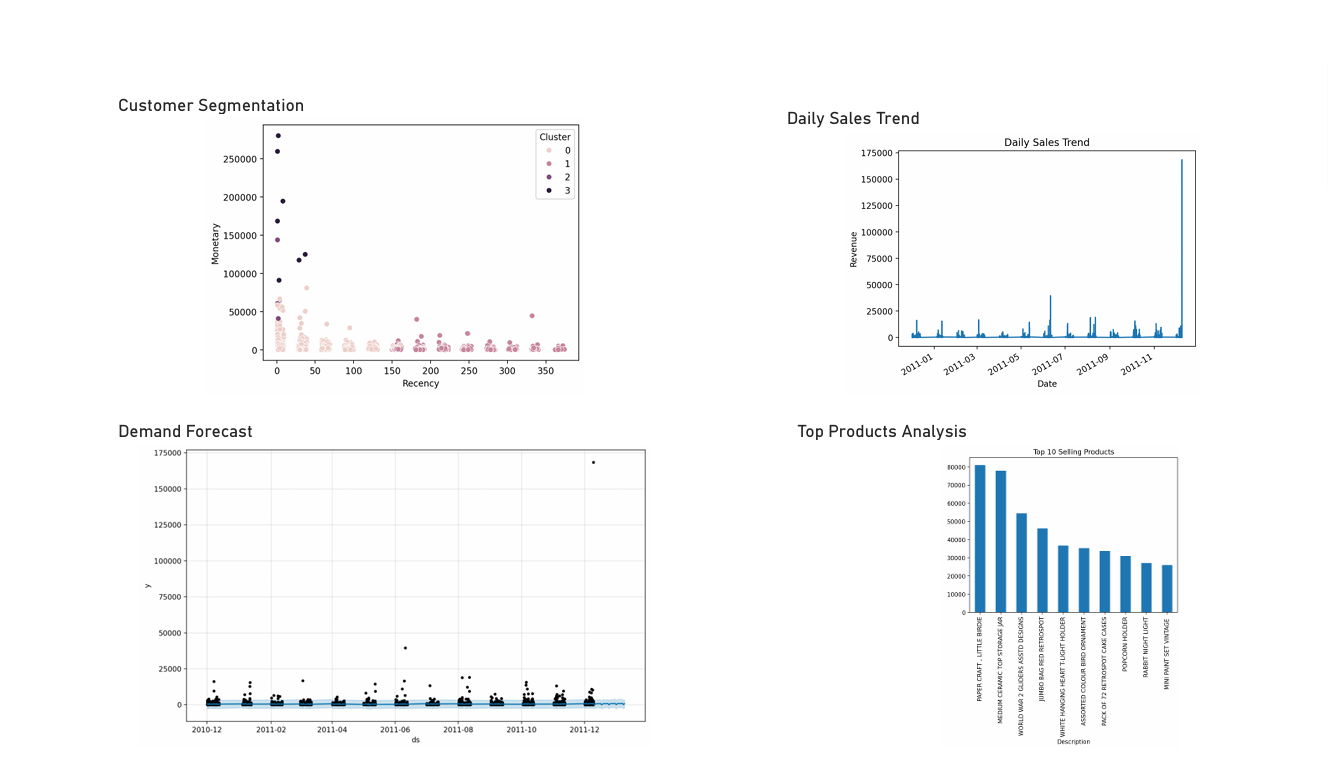

This screenshot's page, from the dashboard's own definition file:
{"tool":"powerbi","page":{"name":"Advanced Analytics Dashboard","canvas":[1280,720],"ordinal":10},"visuals":[{"type":"image","title":"Customer Segmentation","box":[101.2,68.4,538.8,292.2],"z":0},{"type":"image","title":"Demand Forecast","box":[101.2,386.3,538.8,320.7],"z":1000},{"type":"image","title":"Daily Sales Trend","box":[752.6,81.2,459,279.4],"z":2000},{"type":"image","title":"Top Products Analysis","box":[762.6,386.3,517.4,320.7],"z":3000}]}

Visuals, with their boxes on the page's 1280x720 design canvas (x1, y1, x2, y2). These are canvas units, not pixel positions in the 1334x783 screenshot, which may show the page scaled, cropped or inside an application window:
"Customer Segmentation" image: (x1=101, y1=68, x2=640, y2=361)
"Demand Forecast" image: (x1=101, y1=386, x2=640, y2=707)
"Daily Sales Trend" image: (x1=753, y1=81, x2=1212, y2=361)
"Top Products Analysis" image: (x1=763, y1=386, x2=1280, y2=707)
